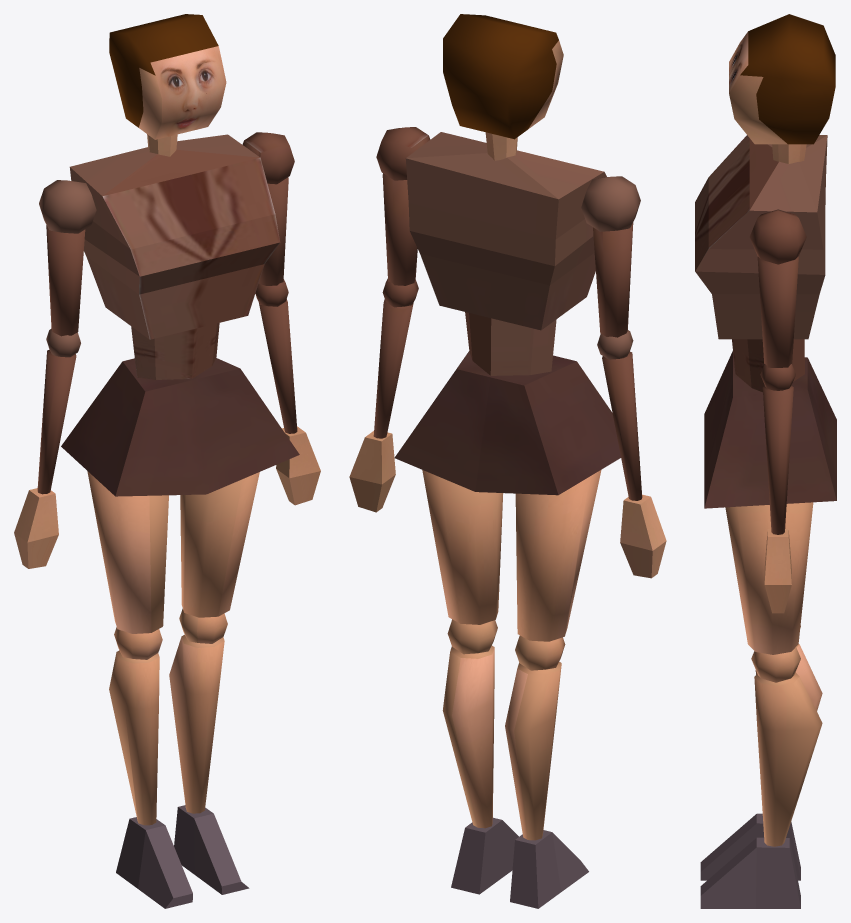
File: npc femenino.fbx
3 renders of one model, left to right at view 1: azimuth 30°, elevation 25°; view 2: azimuth 150°, elevation 25°; view 3: azimuth 270°, elevation 25°, orthographic. The views are drawn at different scales.
Visible parts, largest first — view 1: torso, cabeza; view 2: torso, cabeza; view 3: torso, cabeza.
Boxes of the visible parts, box(x1,y1,x2,y2) form: torso: box(14, 132, 320, 908); cabeza: box(109, 14, 226, 139); torso: box(349, 127, 666, 908); cabeza: box(443, 14, 563, 139); torso: box(695, 135, 836, 908); cabeza: box(729, 14, 835, 144).
Size of the model in its own units: 170 by 467 by 70.03.
